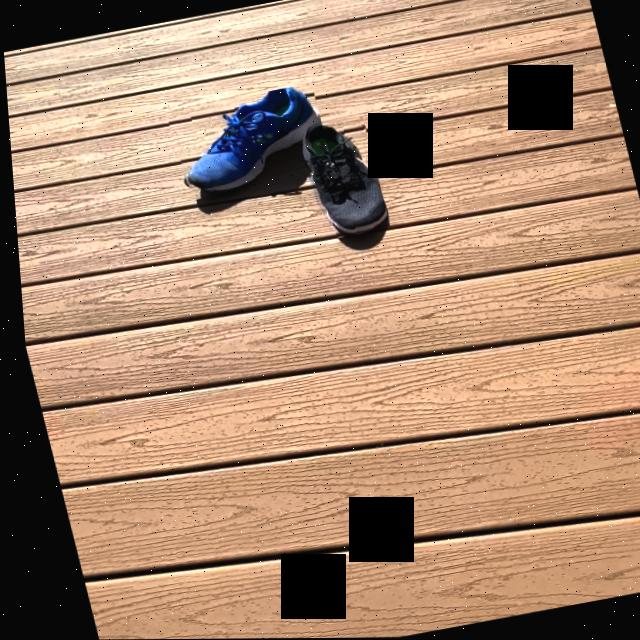shoe: (183, 88, 320, 195), (299, 128, 385, 236)
